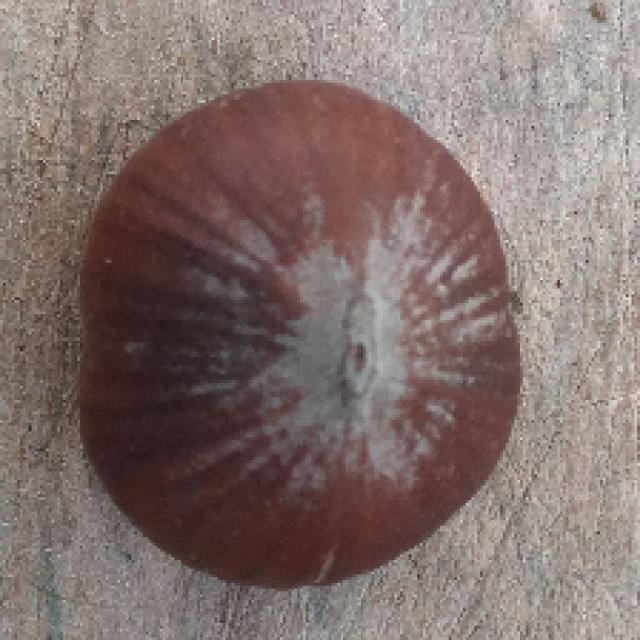qualityHazelnut: (70, 71, 523, 596)
